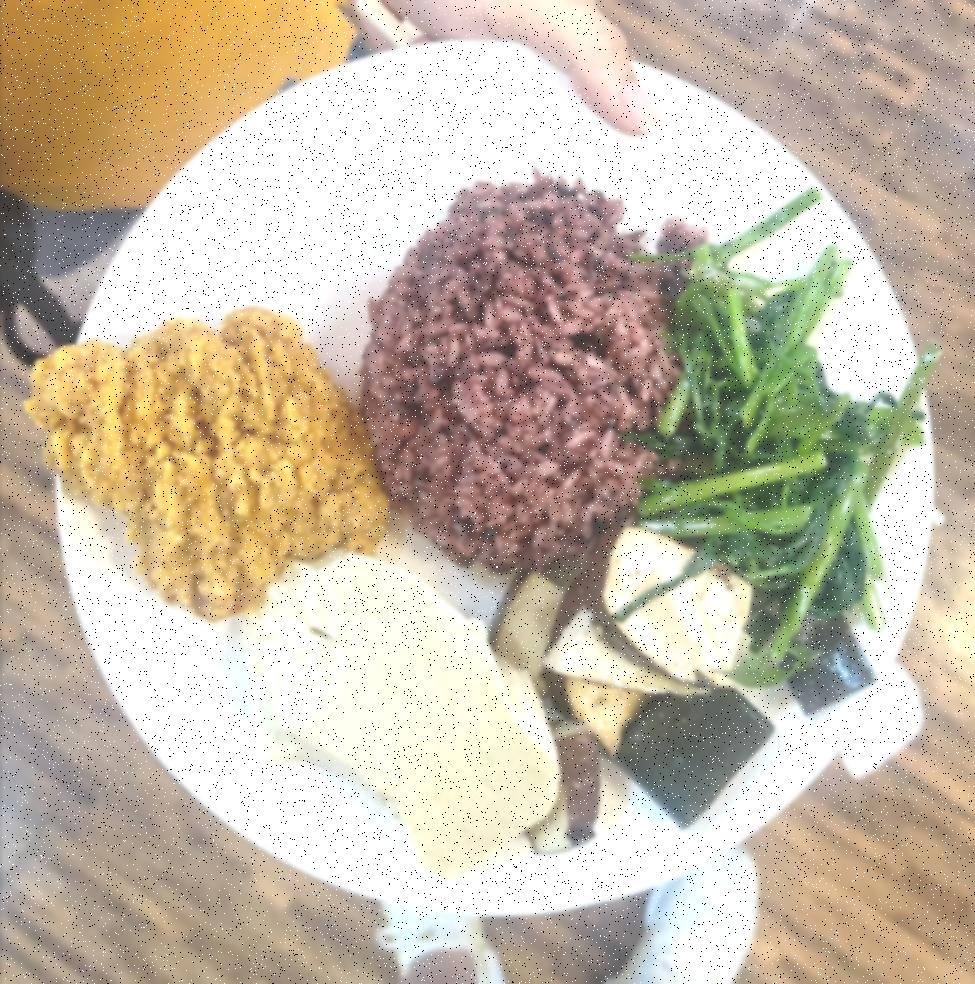kara chicken leg steak: (26, 304, 386, 616)
plate: (36, 25, 950, 910)
purple rice: (354, 168, 712, 572)
side dish: (670, 238, 912, 675), (240, 546, 556, 866), (502, 516, 756, 850)
